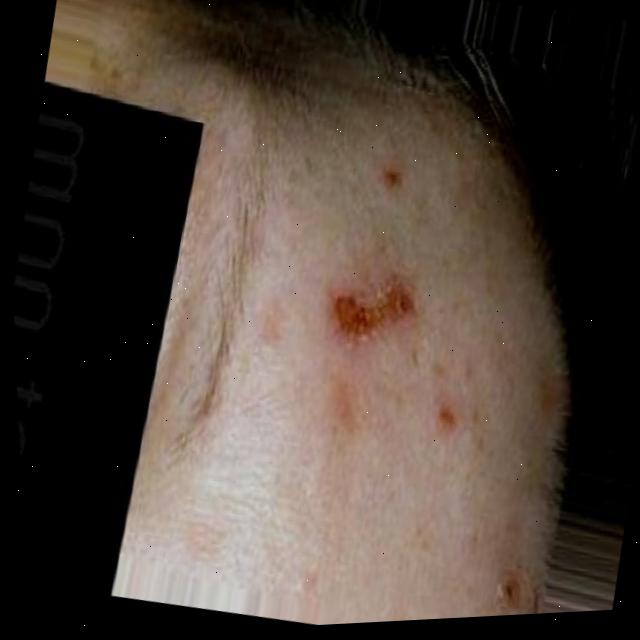Rosacea: (319, 262, 425, 363)
